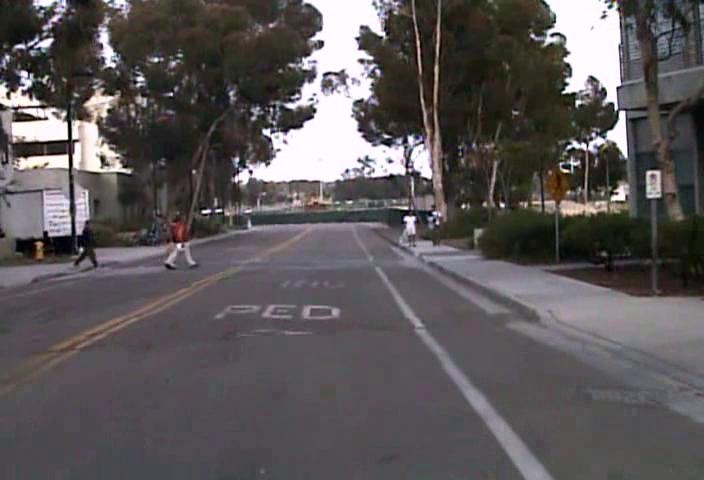pedestrianCrossing: (543, 165, 572, 202)
